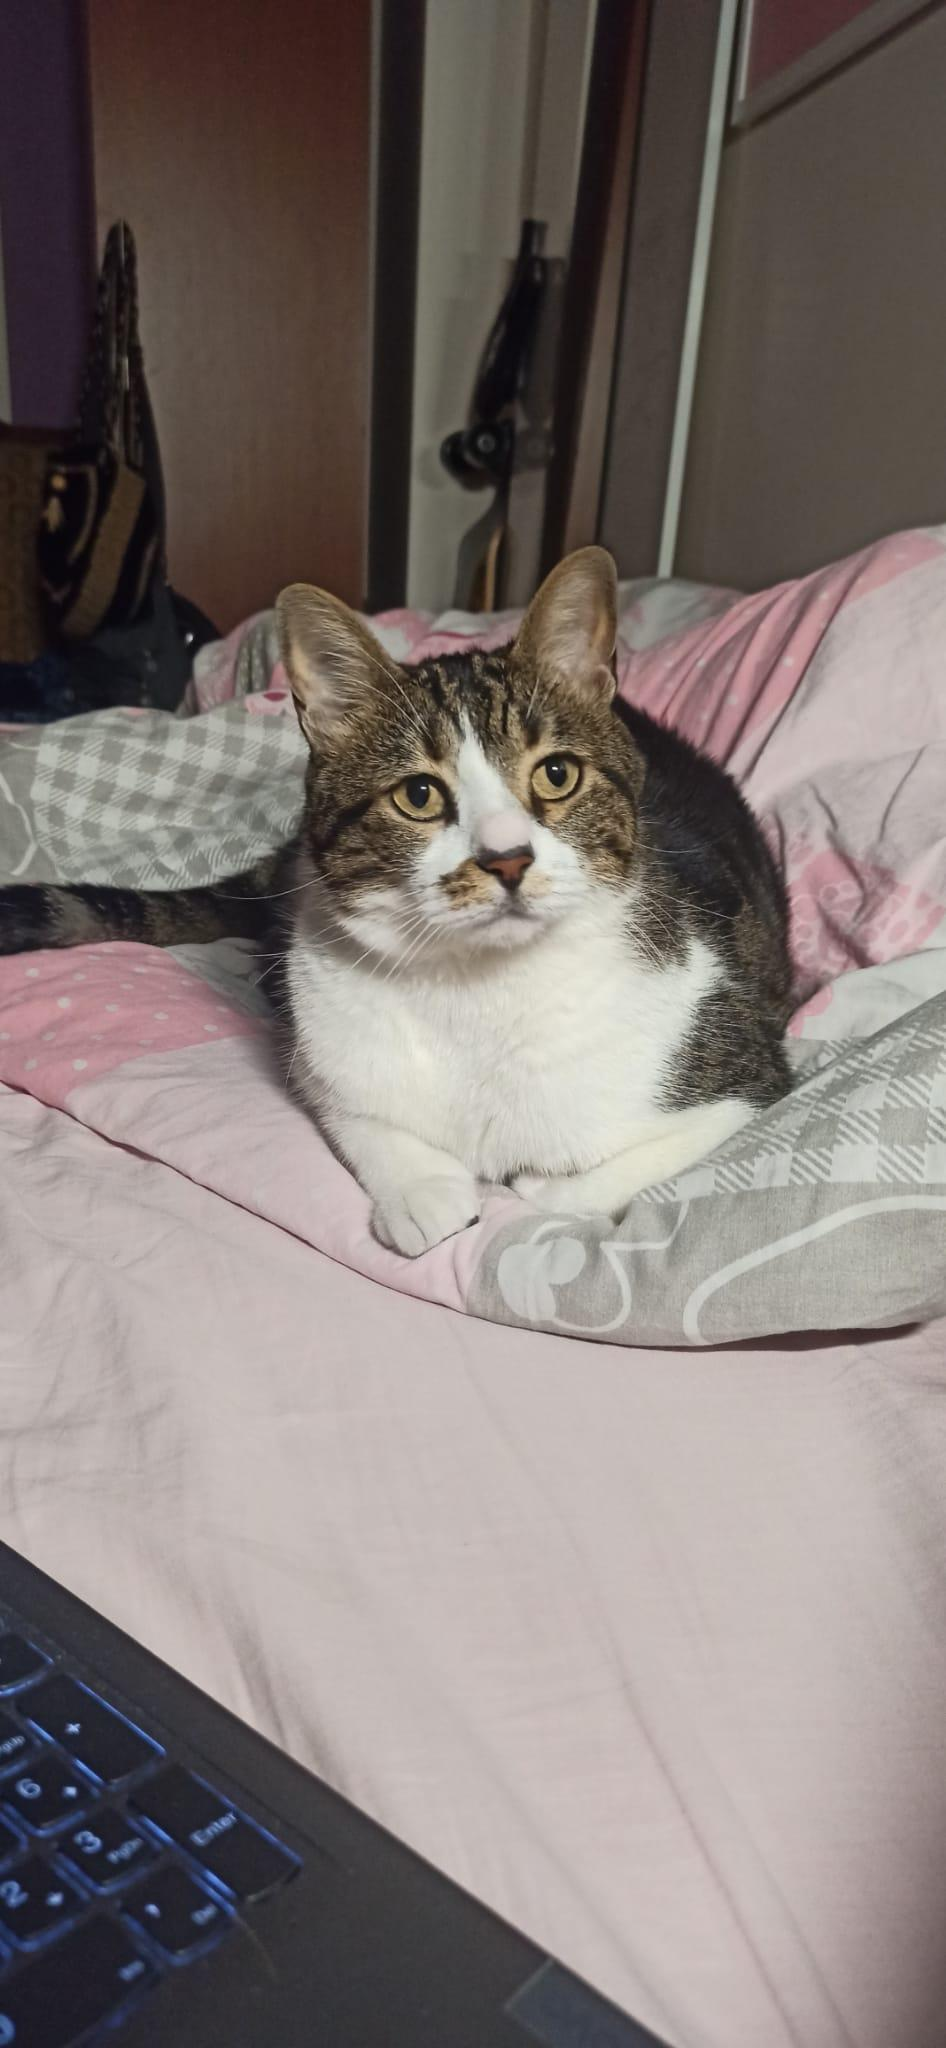kedo: (5, 547, 788, 1260)
